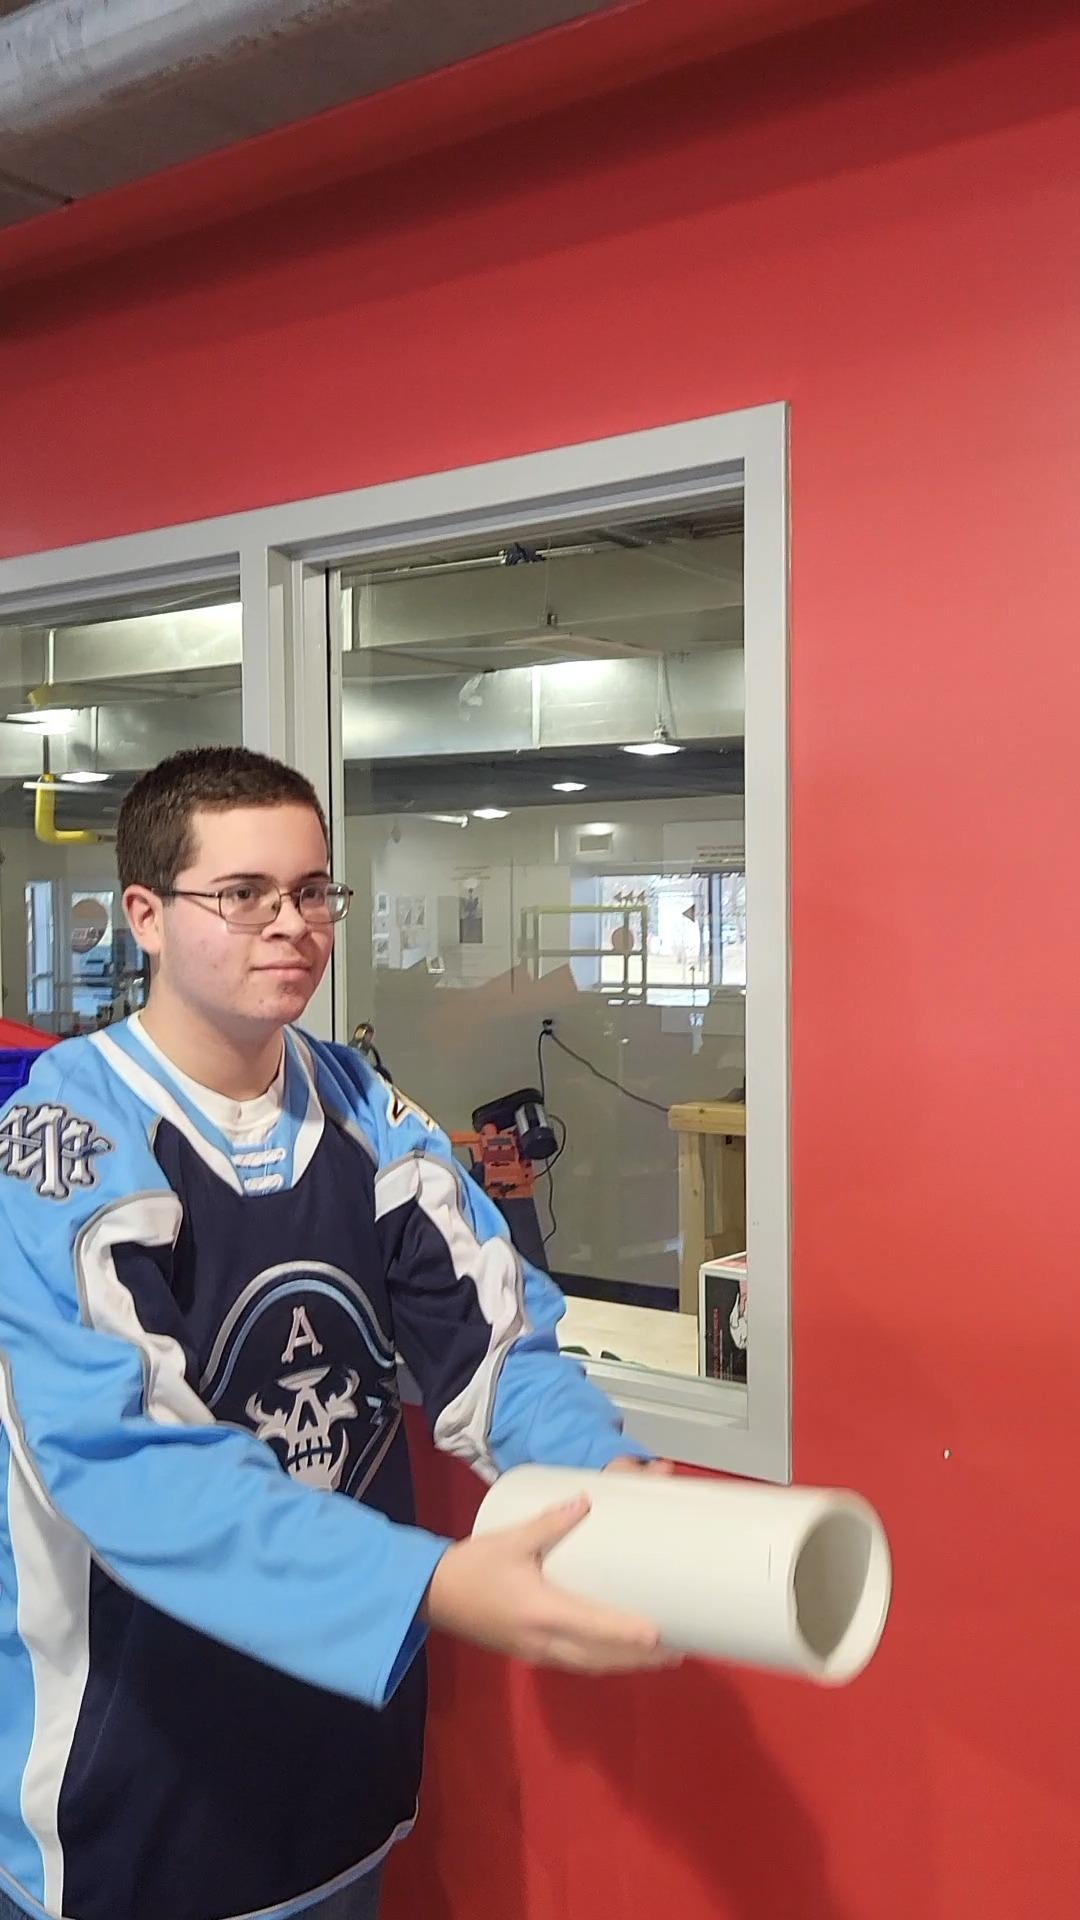coral: (460, 1453, 893, 1688)
